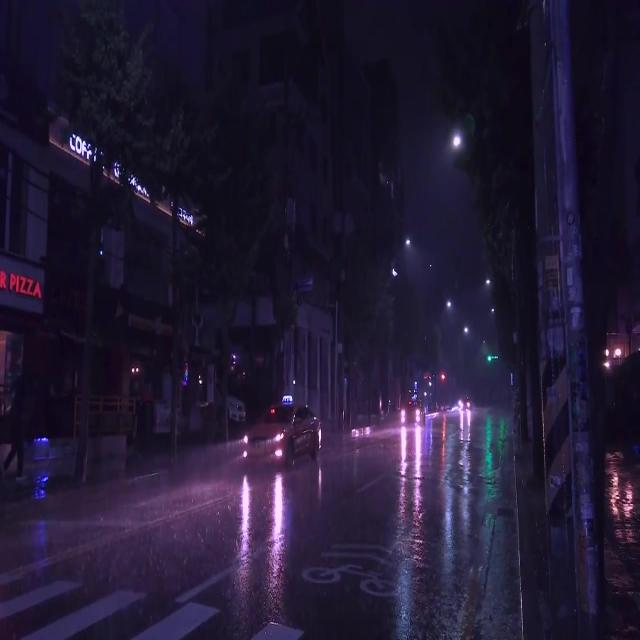Car: (243, 404, 318, 470)
